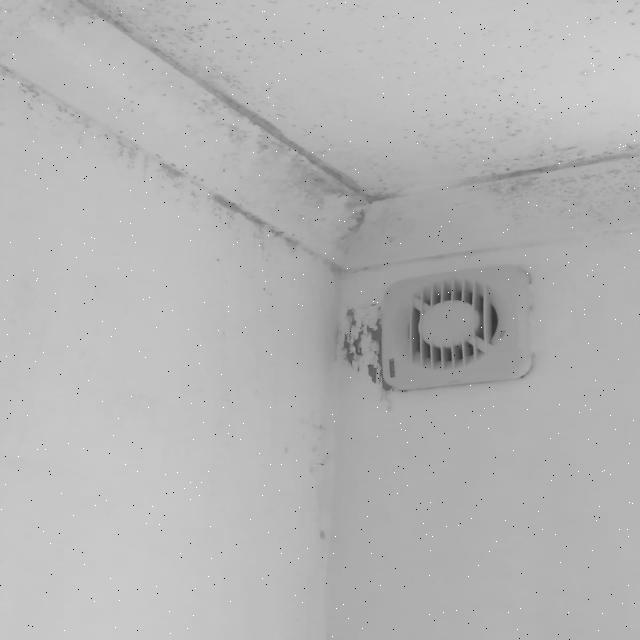peeling paint: (326, 298, 384, 409)
stain marks: (0, 0, 389, 279), (389, 0, 640, 241)
